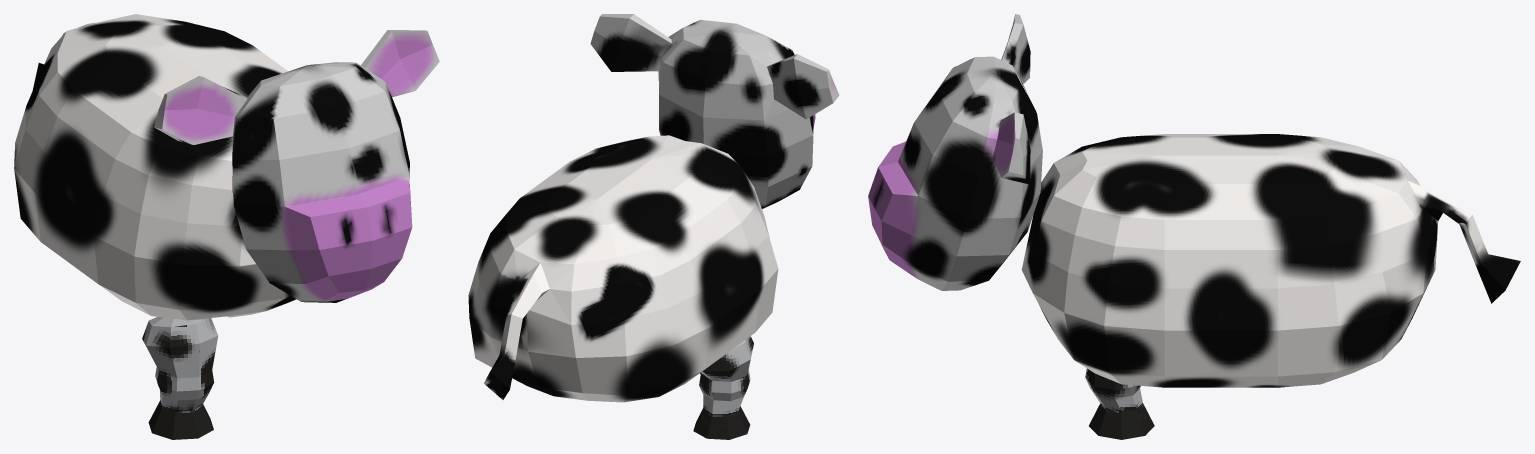
File: Cow_Full.fbx
3 views of the same model, side by side, from view 1: azimuth 30°, elevation 25°; view 2: azimuth 150°, elevation 25°; view 3: azimuth 270°, elevation 25° (orthographic). The views are drawn at different scales.
Parts seen in each view (by area): view 1: Body, Head, Leg; view 2: Body, Head, Leg; view 3: Body, Head, Leg.
Boxes of the visible parts, <box> form: Body: <box>14,14,296,320</box>; Head: <box>154,30,439,302</box>; Leg: <box>142,317,218,439</box>; Body: <box>468,135,778,402</box>; Head: <box>590,14,839,208</box>; Leg: <box>693,336,753,439</box>; Body: <box>1021,134,1520,387</box>; Head: <box>868,14,1042,290</box>; Leg: <box>1085,368,1154,439</box>.
Size of the model in its own units: 197 by 267 by 408.
